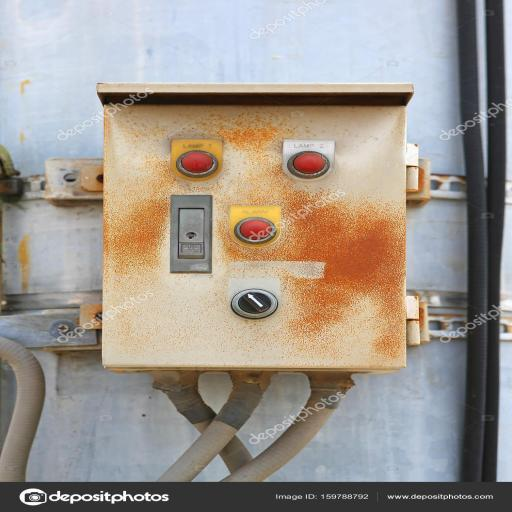segmentation: (245, 180, 407, 352), (97, 166, 192, 275), (219, 114, 279, 149)
